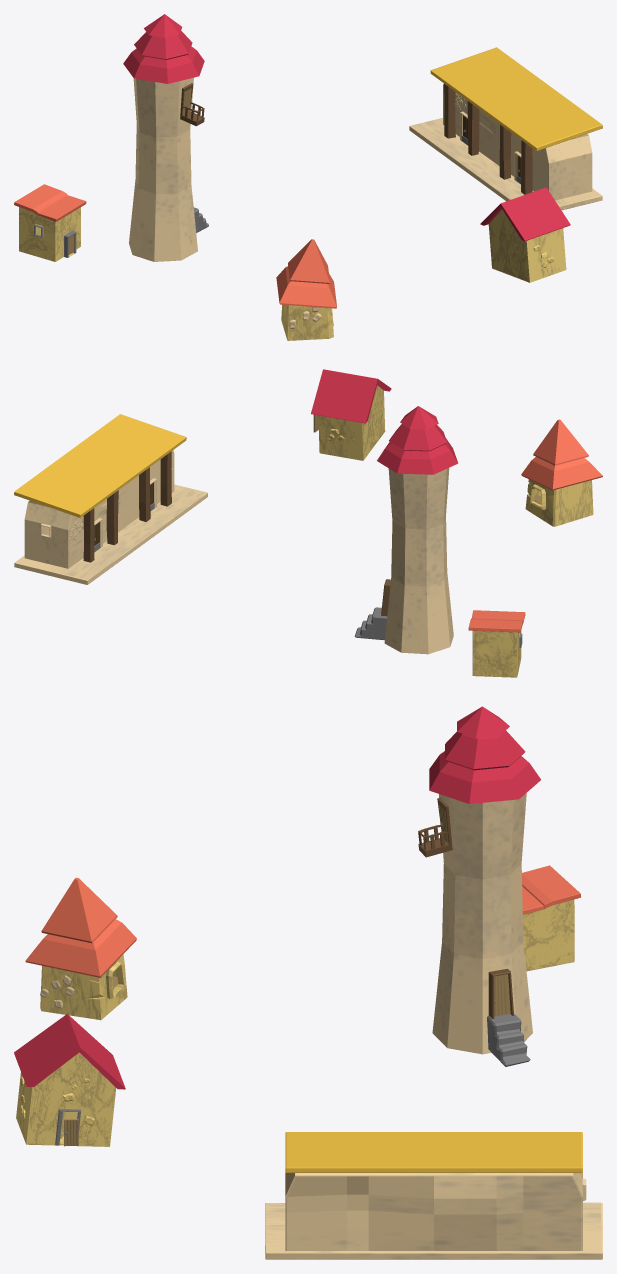
Rendered from lesbatiments.fbx.
3 views of the same model, one above another, from view 1: azimuth 30°, elevation 25°; view 2: azimuth 150°, elevation 25°; view 3: azimuth 270°, elevation 25° (orthographic). The views are drawn at different scales.
Parts seen in each view (by area): view 1: Cube.003, Cylinder, Cube.002, Cube.005, Cube.004; view 2: Cube.003, Cylinder, Cube.005, Cube.002, Cube.004; view 3: Cube.003, Cylinder, Cube.002, Cube.005, Cube.004.
Part boxes in pixels (x1,y1,x2,y2): Cube.003: (409,47,602,210); Cylinder: (123,14,208,261); Cube.002: (480,187,570,282); Cube.005: (276,239,336,340); Cube.004: (14,184,86,261); Cube.003: (14,414,207,584); Cylinder: (354,406,458,654); Cube.005: (521,419,602,526); Cube.002: (311,369,391,460); Cube.004: (468,610,525,677); Cube.003: (265,1132,602,1259); Cylinder: (418,706,540,1066); Cube.002: (14,1014,125,1146); Cube.005: (25,877,136,1020); Cube.004: (522,865,580,971).
Size of the model in its own units: 7915 by 10780 by 4855.
